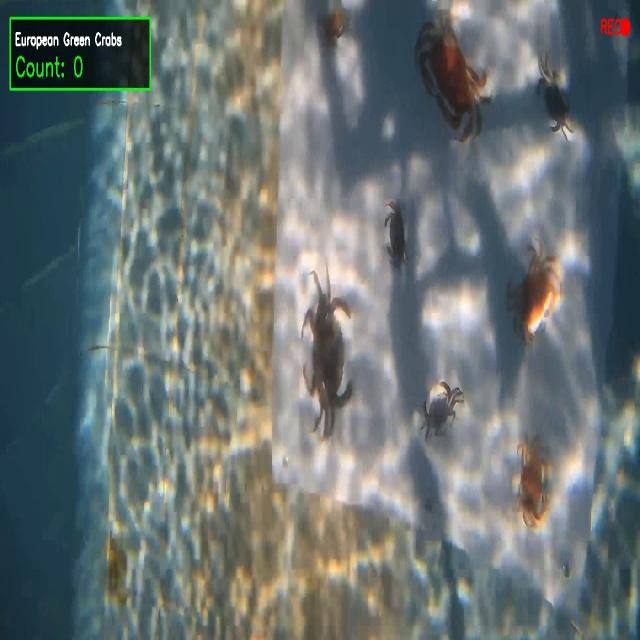European_Green_Crab: (295, 258, 358, 455), (525, 45, 583, 154), (412, 364, 469, 457)
